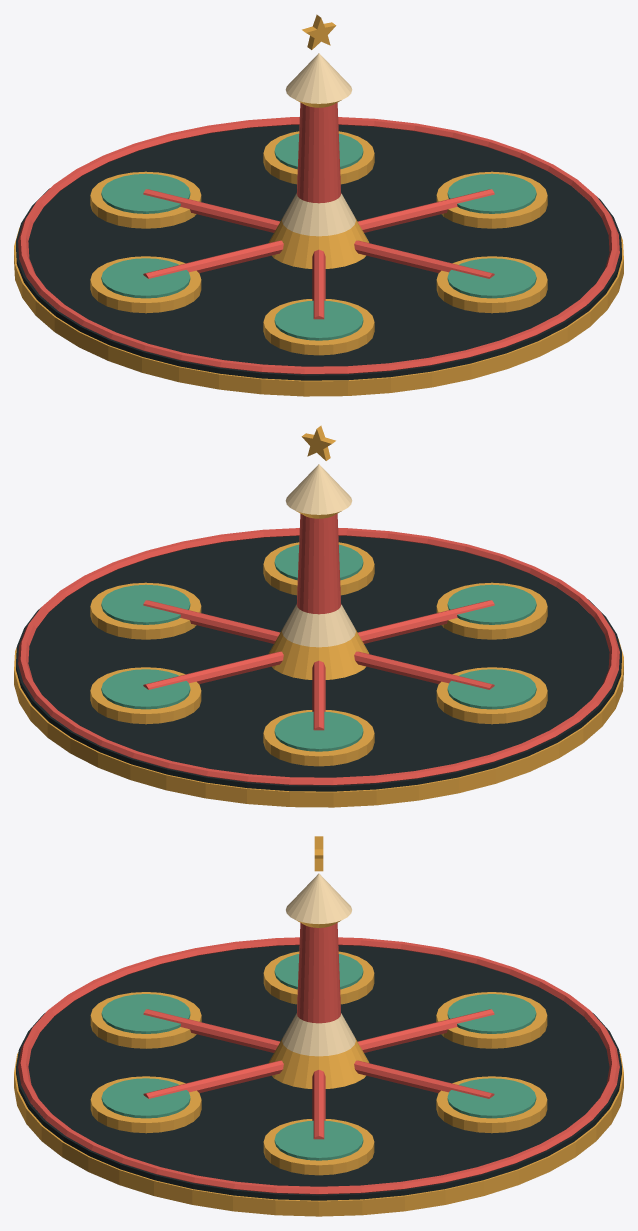
Rendered from ParkParkRocketHub.obj.
3 views of the same model, one above another, from view 1: azimuth 30°, elevation 25°; view 2: azimuth 150°, elevation 25°; view 3: azimuth 270°, elevation 25° (orthographic).
Visible parts, largest first — view 1: ParkParkRocketHub; view 2: ParkParkRocketHub; view 3: ParkParkRocketHub.
Part boxes in pixels (x1,y1,x2,y2): ParkParkRocketHub: (14,14,623,396); ParkParkRocketHub: (14,425,623,807); ParkParkRocketHub: (14,836,623,1216).
Bounding box in the file's own units: 16.5 × 7.5 × 16.5.
